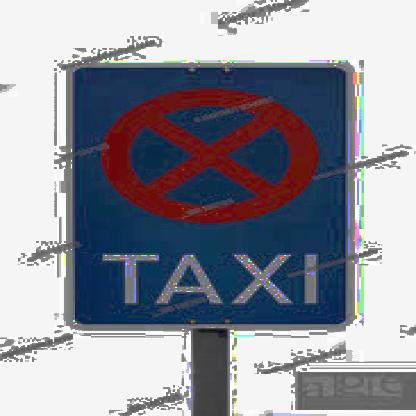No stopping: (80, 84, 350, 228)
